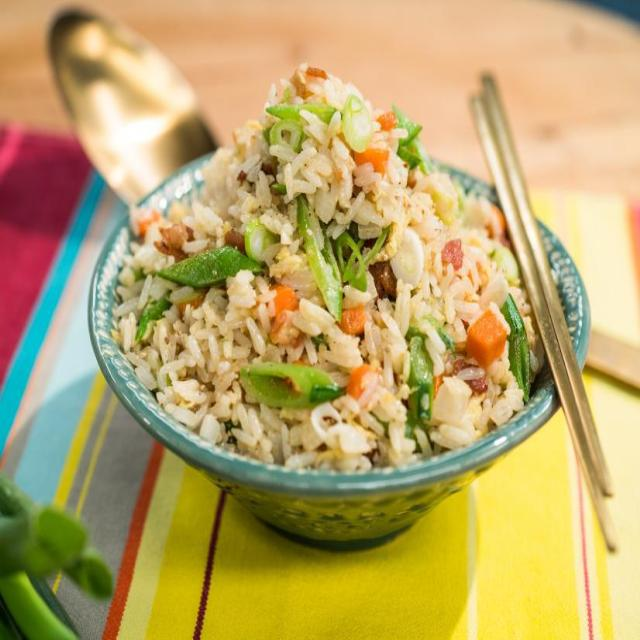Nasi Goreng: (110, 62, 540, 473)
